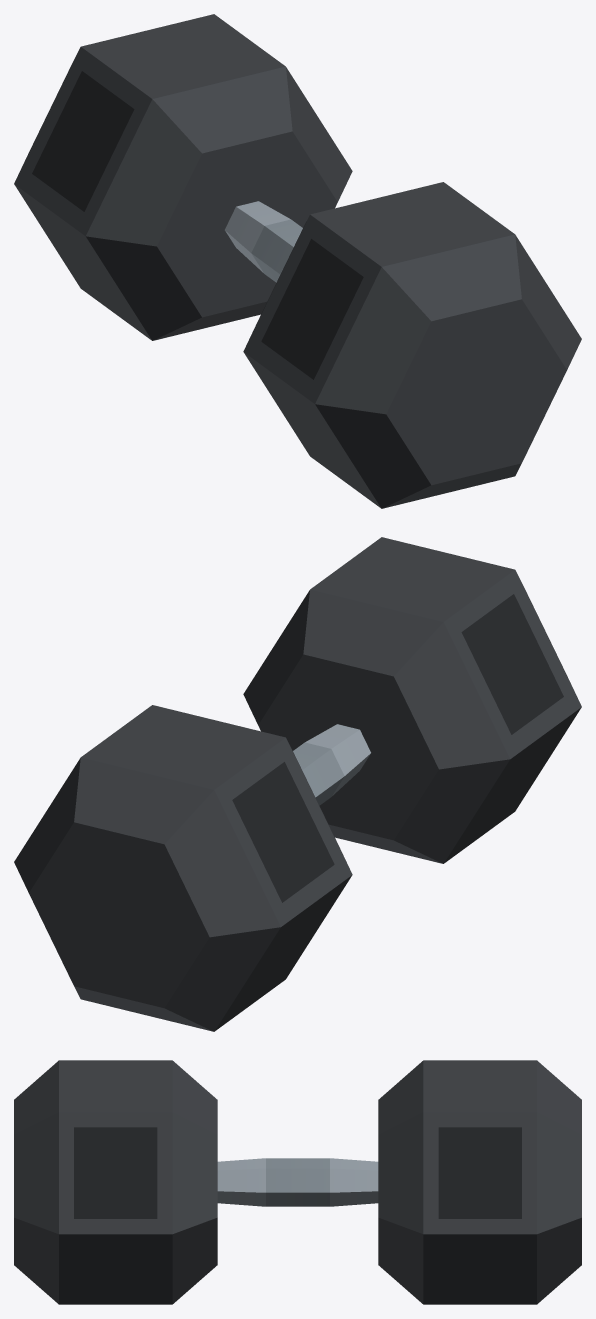
File: Dumbbell.fbx
3 views of the same model, one above another, from view 1: azimuth 30°, elevation 25°; view 2: azimuth 150°, elevation 25°; view 3: azimuth 270°, elevation 25° (orthographic). The views are drawn at different scales.
Size of the model in its own units: 41.63 by 36.05 by 96.53.
Materials: 1 (1 with a texture image).
